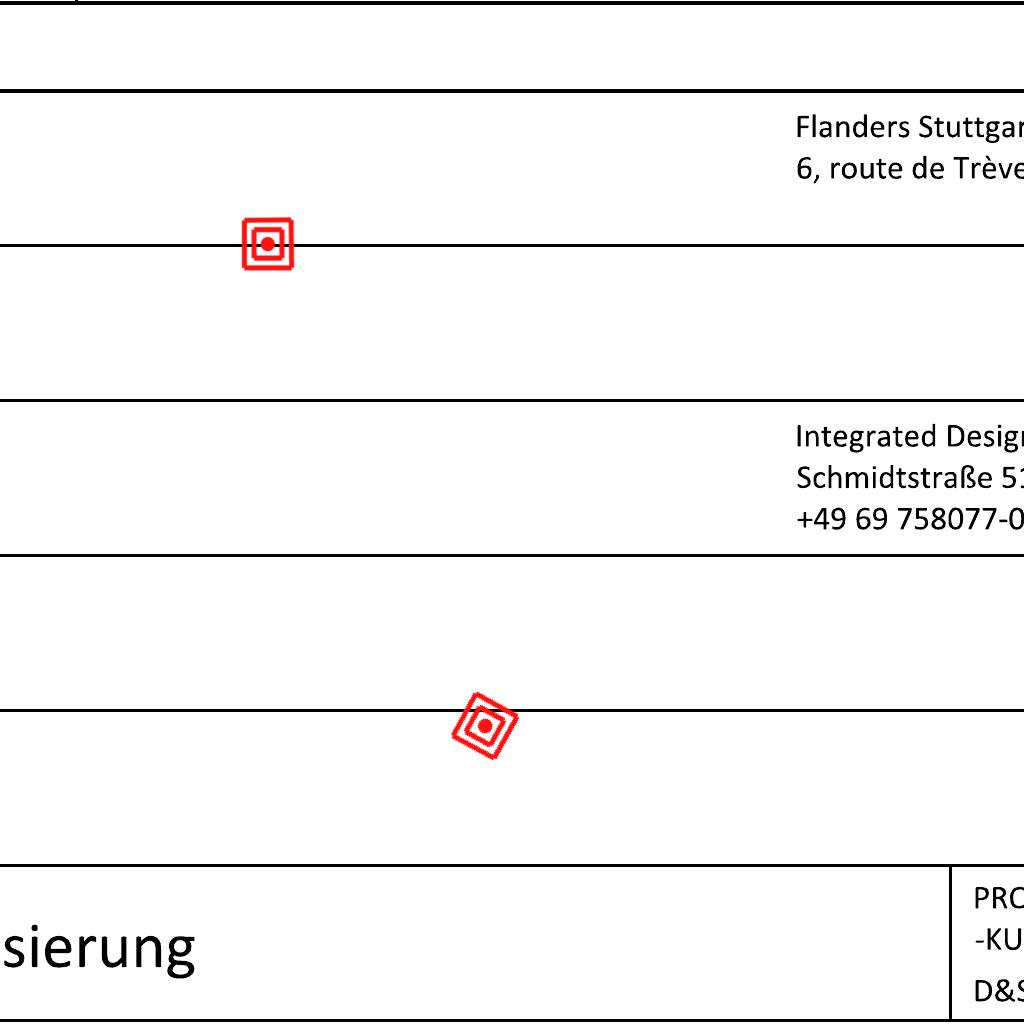NAM-Nichtautomatischer_Melder: (446, 687, 524, 765), (240, 216, 296, 272)
